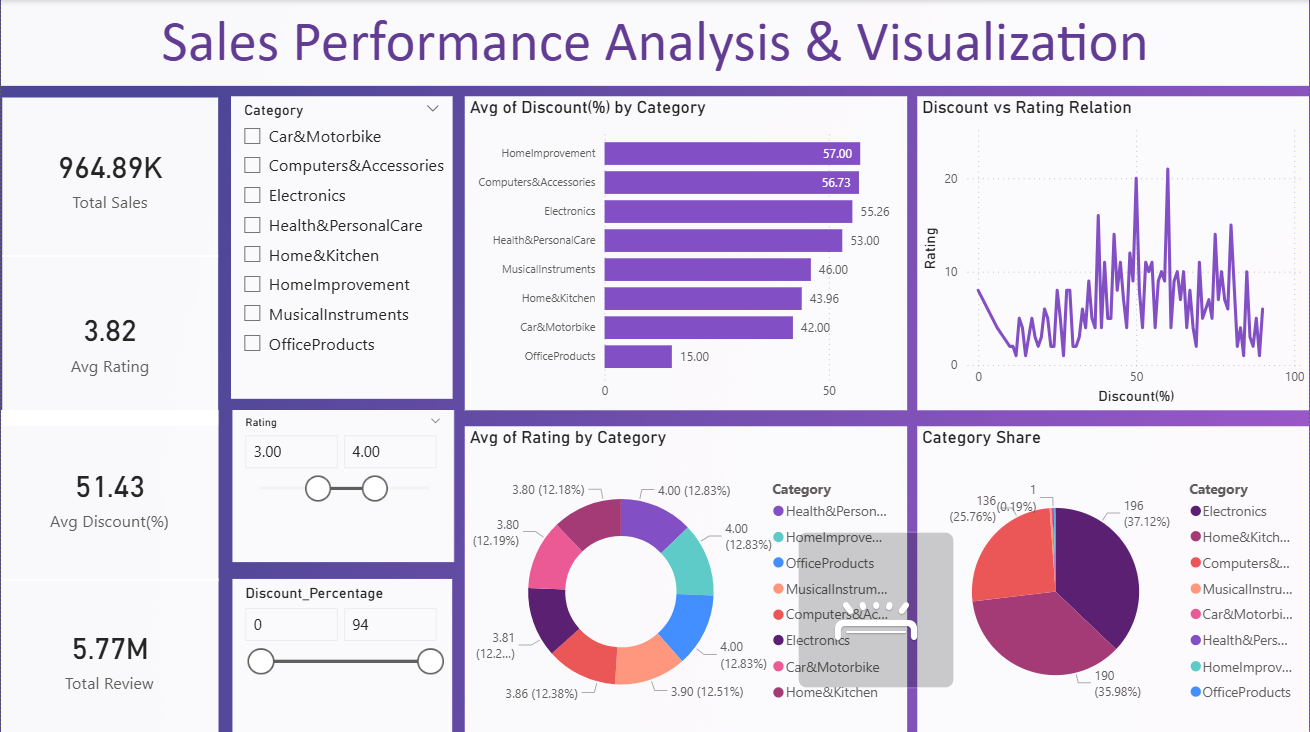

The page's visual inventory and layout, read from the dashboard file:
{"tool":"powerbi","page":{"name":"Page 1","canvas":[1280,720],"ordinal":0},"visuals":[{"type":"card","title":"Total Sales","fields":{"Values":["Sum(cleaned_amazon.discounted_price)"]},"box":[1.3,94.9,211.4,155.7],"z":0},{"type":"card","fields":{"Values":["cleaned_amazon.Avg_rating"]},"box":[1.3,249.4,211.4,167.1],"z":1000},{"type":"card","fields":{"Values":["cleaned_amazon.Avg_Discount%"]},"box":[0,401.1,212.8,167.5],"z":2000},{"type":"card","fields":{"Values":["cleaned_amazon.Total Review"]},"box":[0,565.8,212.7,154.4],"z":3000},{"type":"textbox","box":[0,0,1280,83.8],"z":4000},{"type":"slicer","fields":{"Values":["cleaned_amazon.main_category"]},"box":[225,94.2,216.4,295.9],"z":5000},{"type":"slicer","fields":{"Values":["cleaned_amazon.rating"]},"box":[226.2,401.1,216.4,149.2],"z":6000},{"type":"slicer","fields":{"Values":["cleaned_amazon.discount_percentage"]},"box":[226.4,566.7,215.4,153.7],"z":7000},{"type":"clusteredBarChart","title":"Avg of Discount(%) by Category","fields":{"Category":["cleaned_amazon.main_category"],"Y":["Avg(cleaned_amazon.discount_percentage)"]},"box":[453.7,94.2,432.9,306.9],"z":8000},{"type":"donutChart","title":"Avg of Rating by Category","fields":{"Category":["cleaned_amazon.main_category"],"Y":["Avg(cleaned_amazon.rating)"]},"box":[453.7,417,432.9,303.3],"z":9000},{"type":"lineChart","title":"Discount vs Rating Relation ","fields":{"Y":["CountNonNull(cleaned_amazon.rating)"],"Category":["cleaned_amazon.discount_percentage"]},"box":[896.3,94.2,384,306.9],"z":10000},{"type":"pieChart","title":"Category Share","fields":{"Category":["cleaned_amazon.main_category"],"Y":["CountNonNull(cleaned_amazon.product_name)"]},"box":[896,417,384,303],"z":11000}]}

Visuals, with their boxes in screenshot pixels (x1, y1, x2, y2), scaled from the page's 1280x720 canvas onto the 1310x732 screenshot:
"Total Sales" card: box(1, 96, 218, 255)
card - cleaned_amazon.Avg_rating: box(1, 254, 218, 423)
card - cleaned_amazon.Avg_Discount%: box(0, 408, 218, 578)
card - cleaned_amazon.Total Review: box(0, 575, 218, 731)
textbox: box(0, 0, 1309, 85)
slicer - cleaned_amazon.main_category: box(230, 96, 452, 397)
slicer - cleaned_amazon.rating: box(232, 408, 453, 559)
slicer - cleaned_amazon.discount_percentage: box(232, 576, 452, 731)
"Avg of Discount(%) by Category" clusteredBarChart: box(464, 96, 907, 408)
"Avg of Rating by Category" donutChart: box(464, 424, 907, 731)
"Discount vs Rating Relation " lineChart: box(917, 96, 1309, 408)
"Category Share" pieChart: box(917, 424, 1309, 731)
